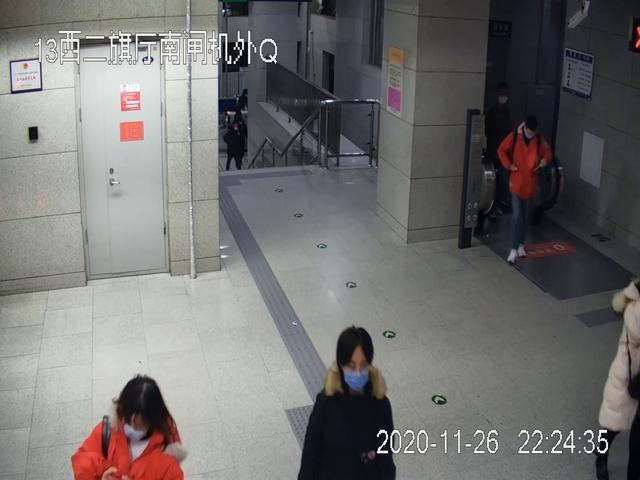person: (297, 324, 395, 480), (495, 112, 551, 264)
